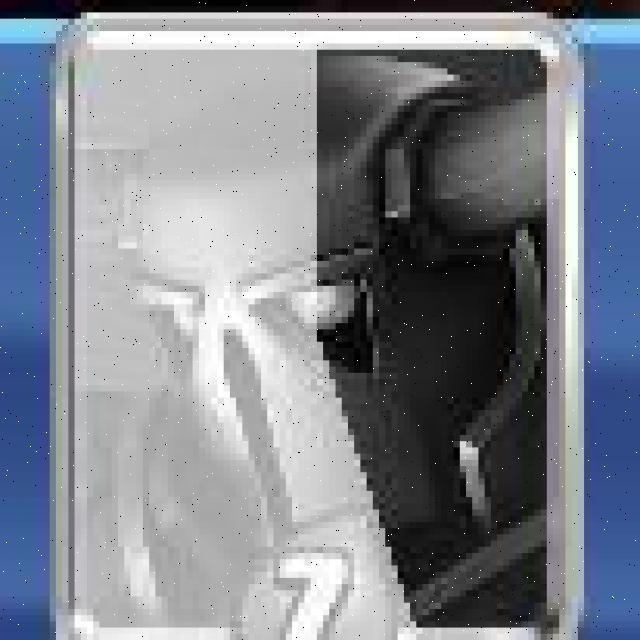Pekka: (49, 12, 586, 638)
